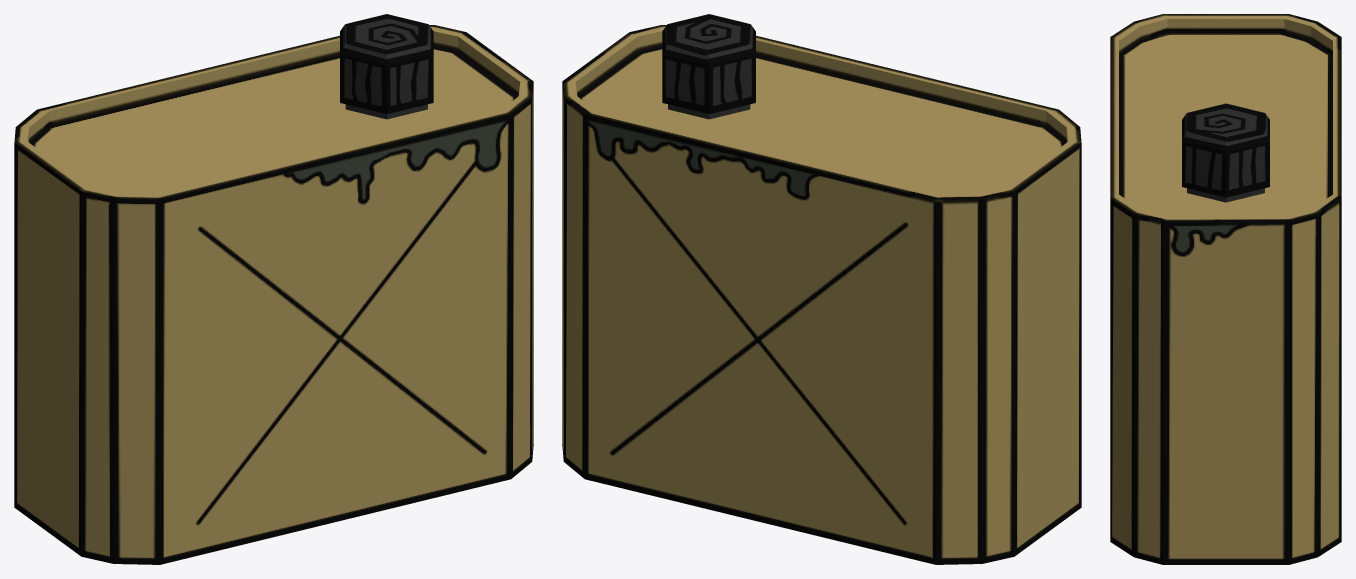
The model's file is bidon_huile.fbx.
The picture shows the model from 3 angles, left to right: view 1: azimuth 30°, elevation 25°; view 2: azimuth 150°, elevation 25°; view 3: azimuth 270°, elevation 25°; orthographic projection. The views are drawn at different scales.
Parts seen in each view (by area): view 1: Bidon_huile; view 2: Bidon_huile; view 3: Bidon_huile.
Boxes of the visible parts, left/top/right/bottom form: Bidon_huile: left=14, top=14, right=533, bottom=564; Bidon_huile: left=562, top=14, right=1081, bottom=564; Bidon_huile: left=1110, top=14, right=1341, bottom=564.
Bounding box in the file's own units: 45.14 × 39.62 × 21.29.
